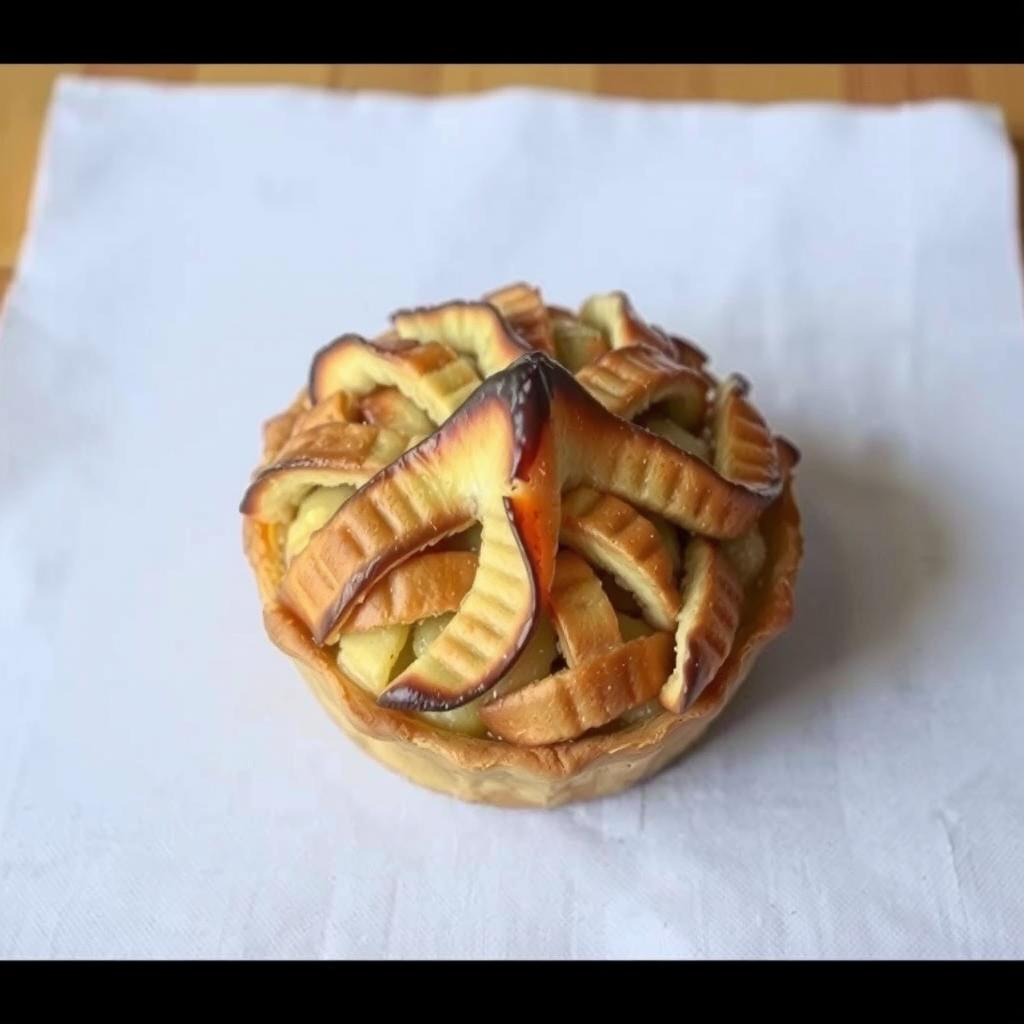pie: (231, 277, 826, 819)
